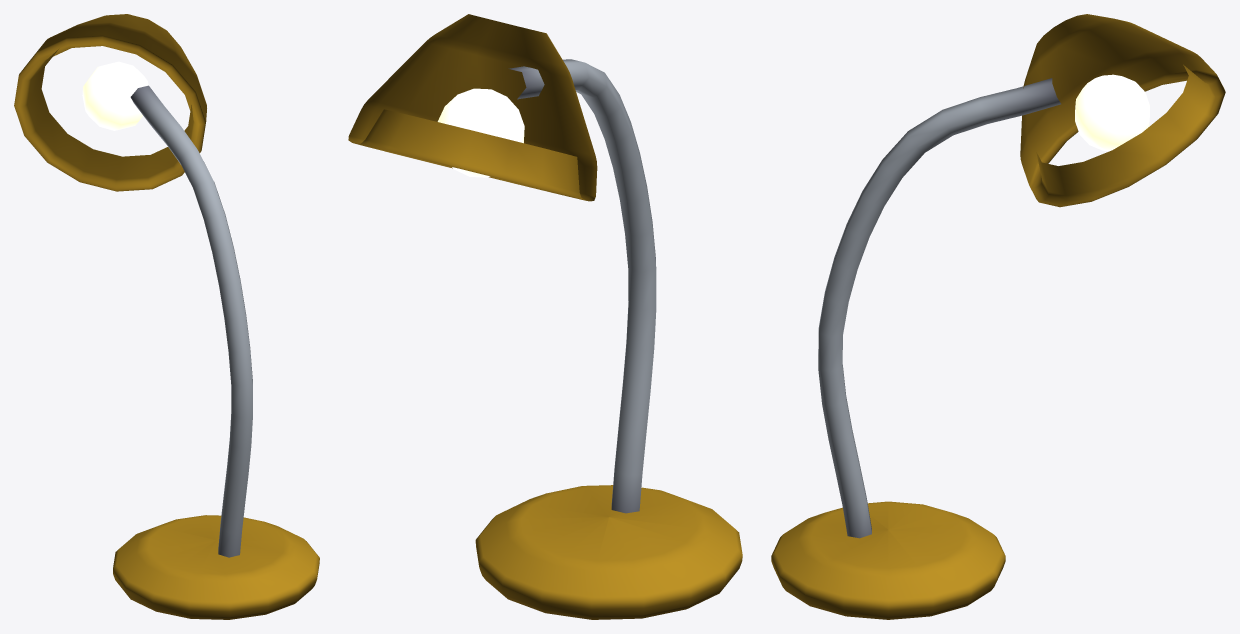
File: nm_desk_lamp__057.glb
3 views of the same model, side by side, from view 1: azimuth 30°, elevation 25°; view 2: azimuth 150°, elevation 25°; view 3: azimuth 270°, elevation 25° (orthographic). The views are drawn at different scales.
Visible parts, largest first — view 1: merged_toon_ffffff, prop_nm_desk_lamp, group; view 2: merged_toon_ffffff, prop_nm_desk_lamp, group; view 3: merged_toon_ffffff, prop_nm_desk_lamp, group.
Part boxes in pixels (bbox=[...]): merged_toon_ffffff: bbox=[14, 14, 319, 619]; prop_nm_desk_lamp: bbox=[130, 85, 252, 557]; group: bbox=[82, 61, 148, 130]; merged_toon_ffffff: bbox=[348, 14, 742, 619]; prop_nm_desk_lamp: bbox=[508, 59, 656, 513]; group: bbox=[437, 88, 524, 177]; merged_toon_ffffff: bbox=[771, 14, 1225, 619]; prop_nm_desk_lamp: bbox=[818, 78, 1060, 538]; group: bbox=[1075, 74, 1149, 151].
Bounding box in the file's own units: 0.1671 × 0.4359 × 0.3238.
